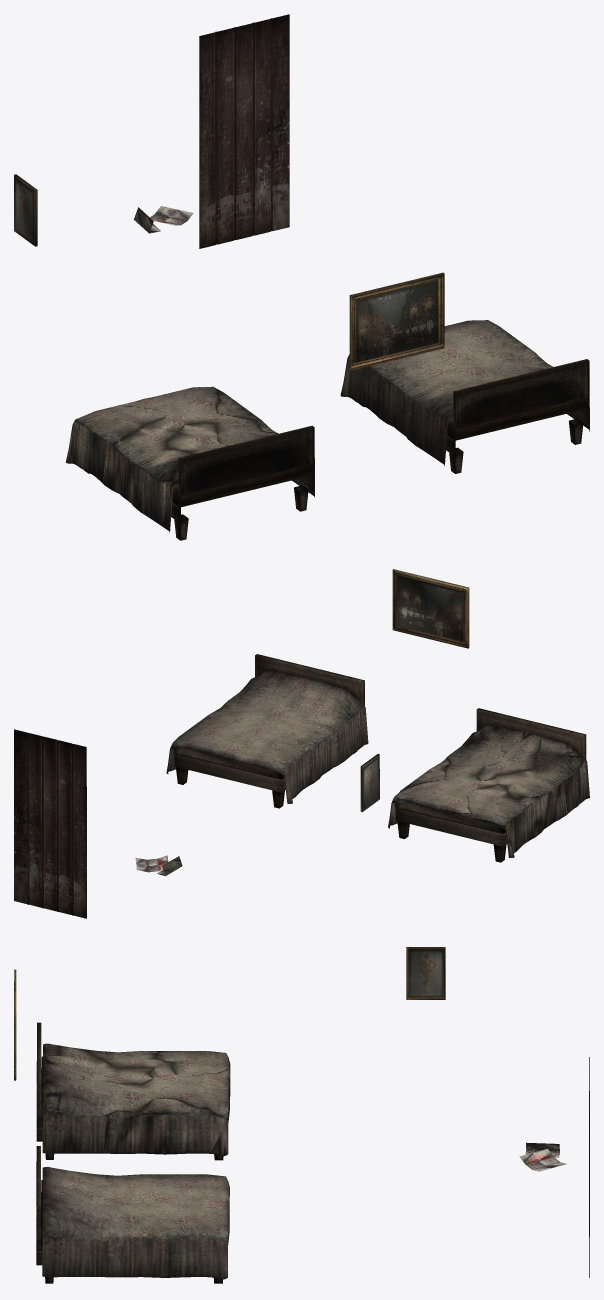
The model's file is Room2.obj.
3 renders of one model, top to bottom at view 1: azimuth 30°, elevation 25°; view 2: azimuth 150°, elevation 25°; view 3: azimuth 270°, elevation 25°, orthographic. The views are drawn at different scales.
Visible parts, largest first — view 1: Room2; view 2: Room2; view 3: Room2.
Part boxes in pixels (x1,y1,x2,y2): Room2: [14, 14, 589, 540]; Room2: [14, 569, 589, 918]; Room2: [14, 947, 589, 1283].
Bounding box in the file's own units: 46.79 × 22.93 × 58.88.
